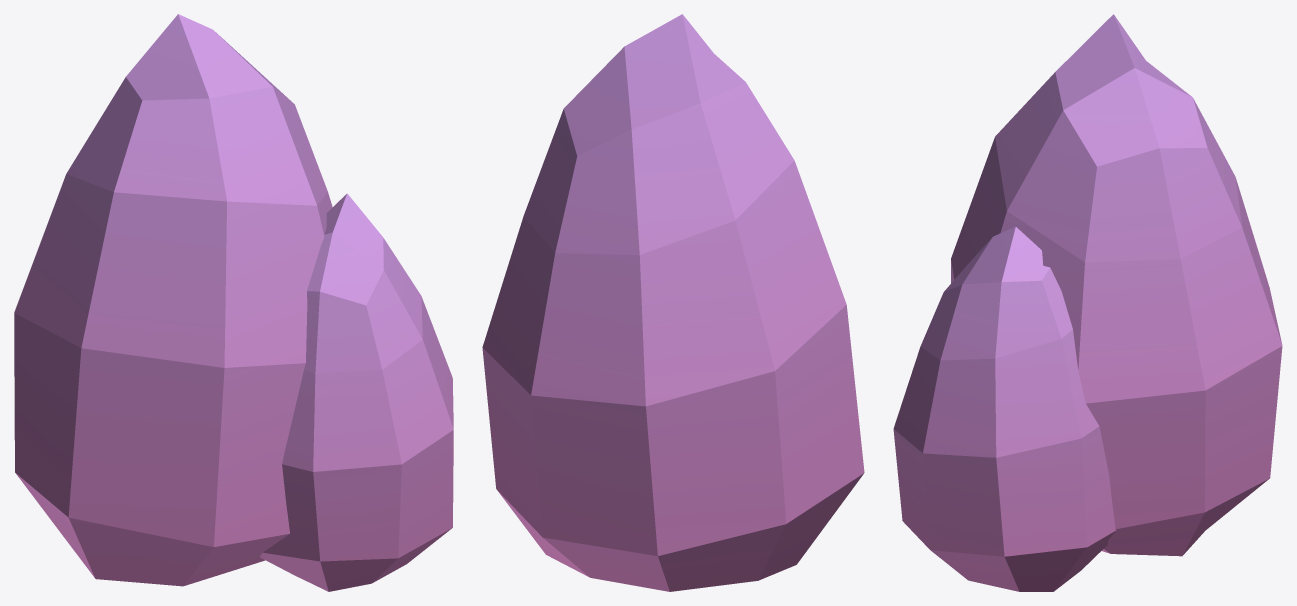
The model's file is m_Bush03.fbx.
3 views of the same model, side by side, from view 1: azimuth 30°, elevation 25°; view 2: azimuth 150°, elevation 25°; view 3: azimuth 270°, elevation 25° (orthographic). The views are drawn at different scales.
Parts seen in each view (by area): view 1: m_Bush03; view 2: m_Bush03; view 3: m_Bush03.
Part boxes in pixels (x1,y1,x2,y2): m_Bush03: (14, 14, 453, 591); m_Bush03: (482, 14, 864, 591); m_Bush03: (893, 14, 1282, 591).
Bounding box in the file's own units: 37.83 × 53.55 × 37.96.
